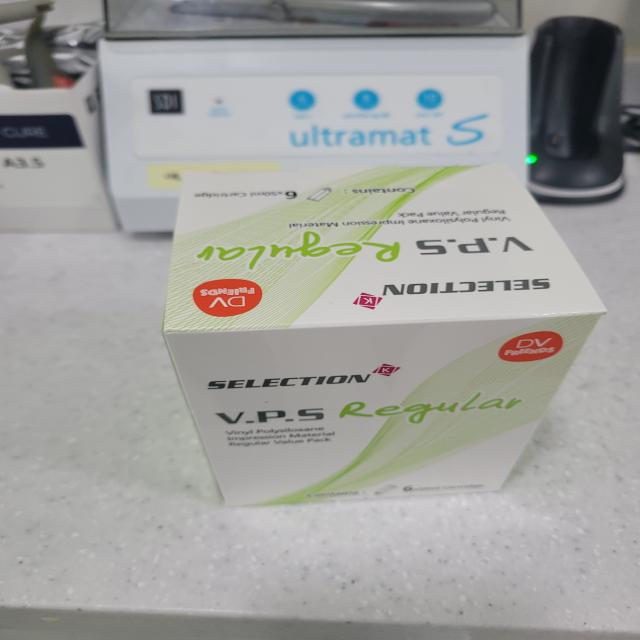impression: (143, 149, 616, 536)
